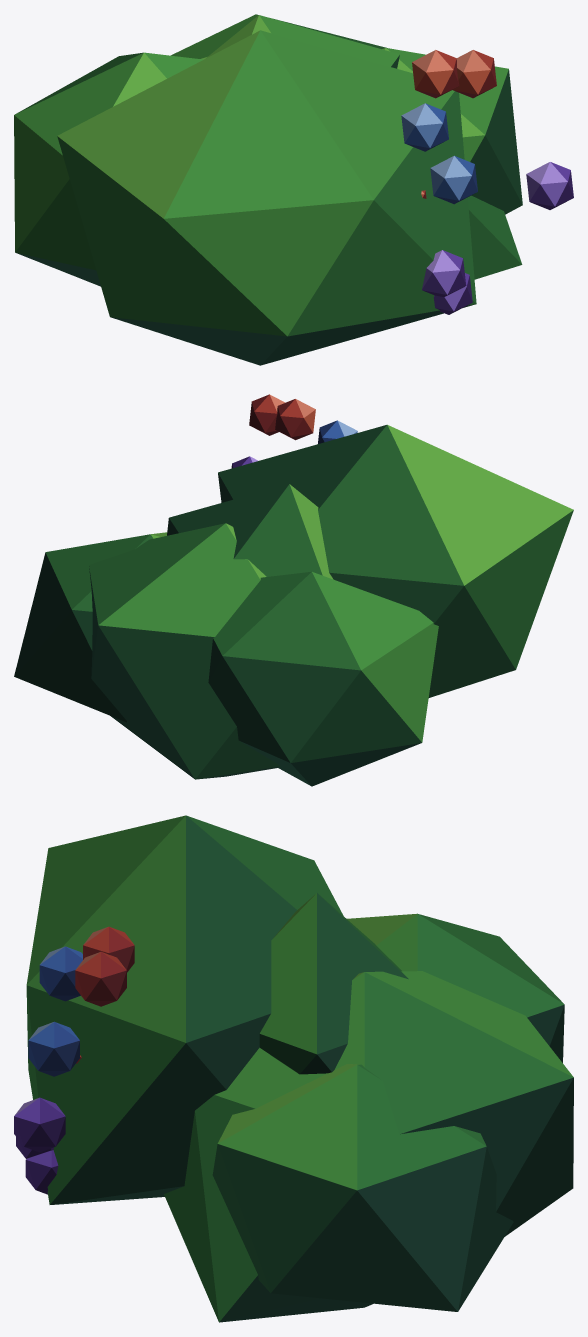
File: bush_berry.glb
The picture shows the model from 3 angles, top to bottom: view 1: azimuth 30°, elevation 25°; view 2: azimuth 150°, elevation 25°; view 3: azimuth 270°, elevation 25°; orthographic projection. The views are drawn at different scales.
Parts seen in each view (by area): view 1: bush_berry; view 2: bush_berry; view 3: bush_berry.
Part boxes in pixels (x1,y1,x2,y2): bush_berry: [14, 14, 573, 365]; bush_berry: [14, 394, 573, 786]; bush_berry: [14, 815, 573, 1322].
Bounding box in the file's own units: 0.5802 × 0.4383 × 0.5157.
